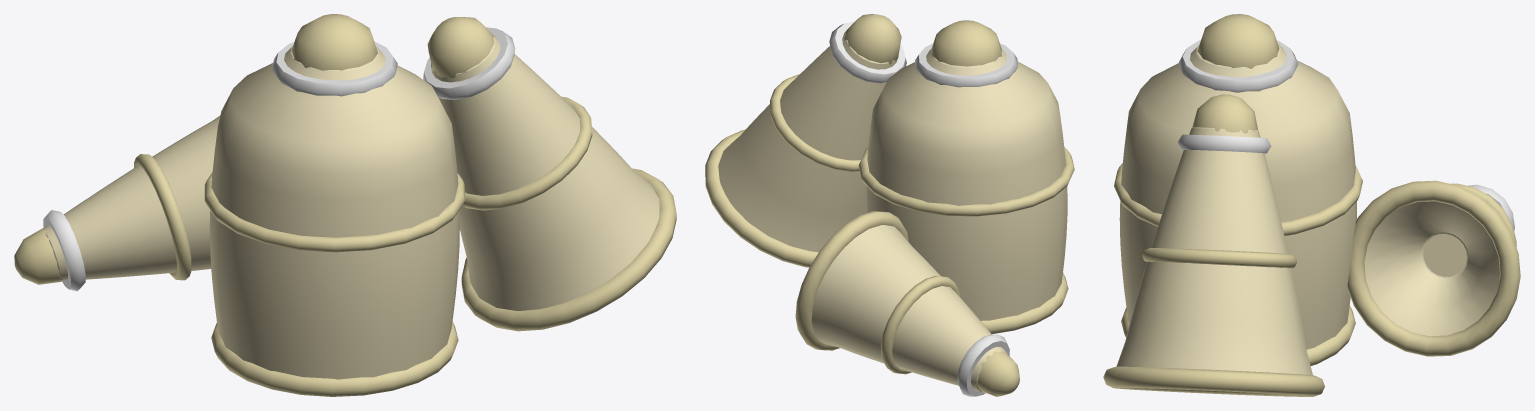
File: pf_bubo_1.glb
The picture shows the model from 3 angles, left to right: view 1: azimuth 30°, elevation 25°; view 2: azimuth 150°, elevation 25°; view 3: azimuth 270°, elevation 25°; orthographic projection. The views are drawn at different scales.
Visible parts, largest first — view 1: bubo_1_pf_trap, bubo_1_bamboo, bubo_1_pb_rope; view 2: bubo_1_pf_trap, bubo_1_bamboo, bubo_1_pb_rope; view 3: bubo_1_pf_trap, bubo_1_bamboo, bubo_1_pb_rope.
Part boxes in pixels (box(x1,y1,x2,y2)): bubo_1_pf_trap: box(43, 36, 659, 379); bubo_1_bamboo: box(14, 14, 676, 396); bubo_1_pb_rope: box(43, 27, 515, 291); bubo_1_pf_trap: box(718, 31, 1067, 391); bubo_1_bamboo: box(705, 14, 1074, 396); bubo_1_pb_rope: box(829, 21, 1018, 396); bubo_1_pf_trap: box(1116, 44, 1499, 375); bubo_1_bamboo: box(1103, 14, 1520, 396); bubo_1_pb_rope: box(1177, 40, 1514, 230).
Size of the model in its own units: 1.77 by 1.11 by 1.35.
